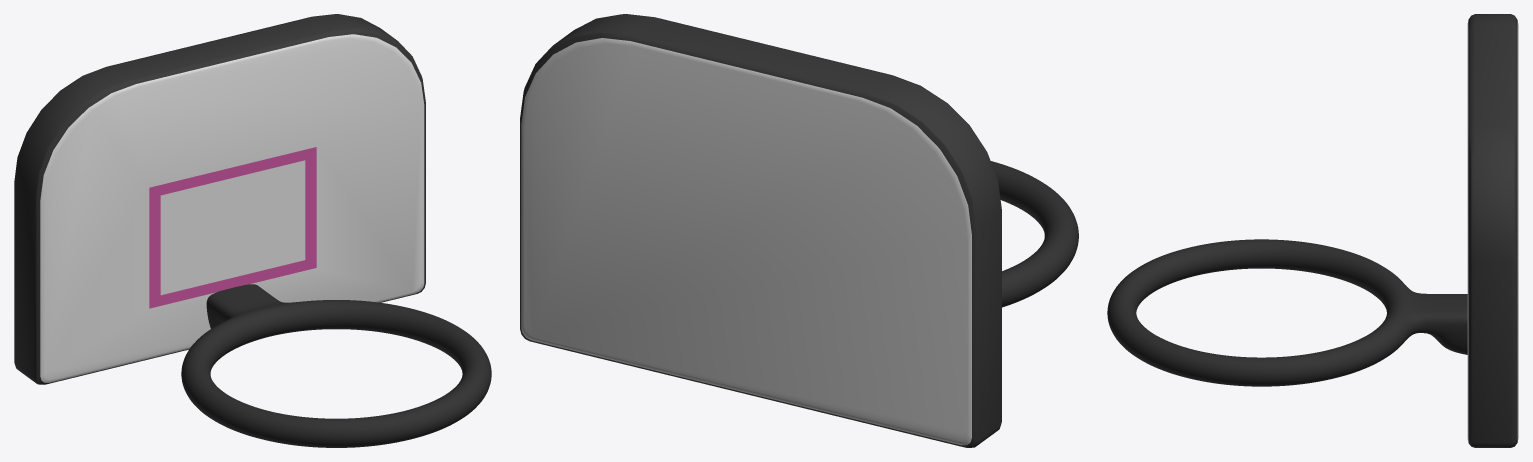
The model's file is goal.fbx.
3 views of the same model, side by side, from view 1: azimuth 30°, elevation 25°; view 2: azimuth 150°, elevation 25°; view 3: azimuth 270°, elevation 25° (orthographic). The views are drawn at different scales.
Visible parts, largest first — view 1: Cube.010, Torus.002; view 2: Cube.010, Torus.002; view 3: Cube.010, Torus.002.
Part boxes in pixels (box(x1,y1,x2,y2)): Cube.010: box(14, 14, 425, 384); Torus.002: box(181, 284, 491, 447); Cube.010: box(520, 14, 1001, 447); Torus.002: box(991, 161, 1078, 307); Cube.010: box(1467, 14, 1518, 447); Torus.002: box(1107, 239, 1467, 386).
Bounding box in the file's own units: 976 × 675 × 893.
